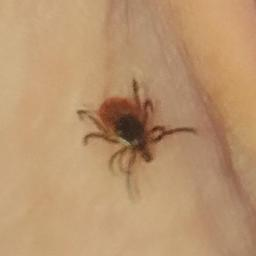Ixodes scapularis: (77, 80, 195, 199)
